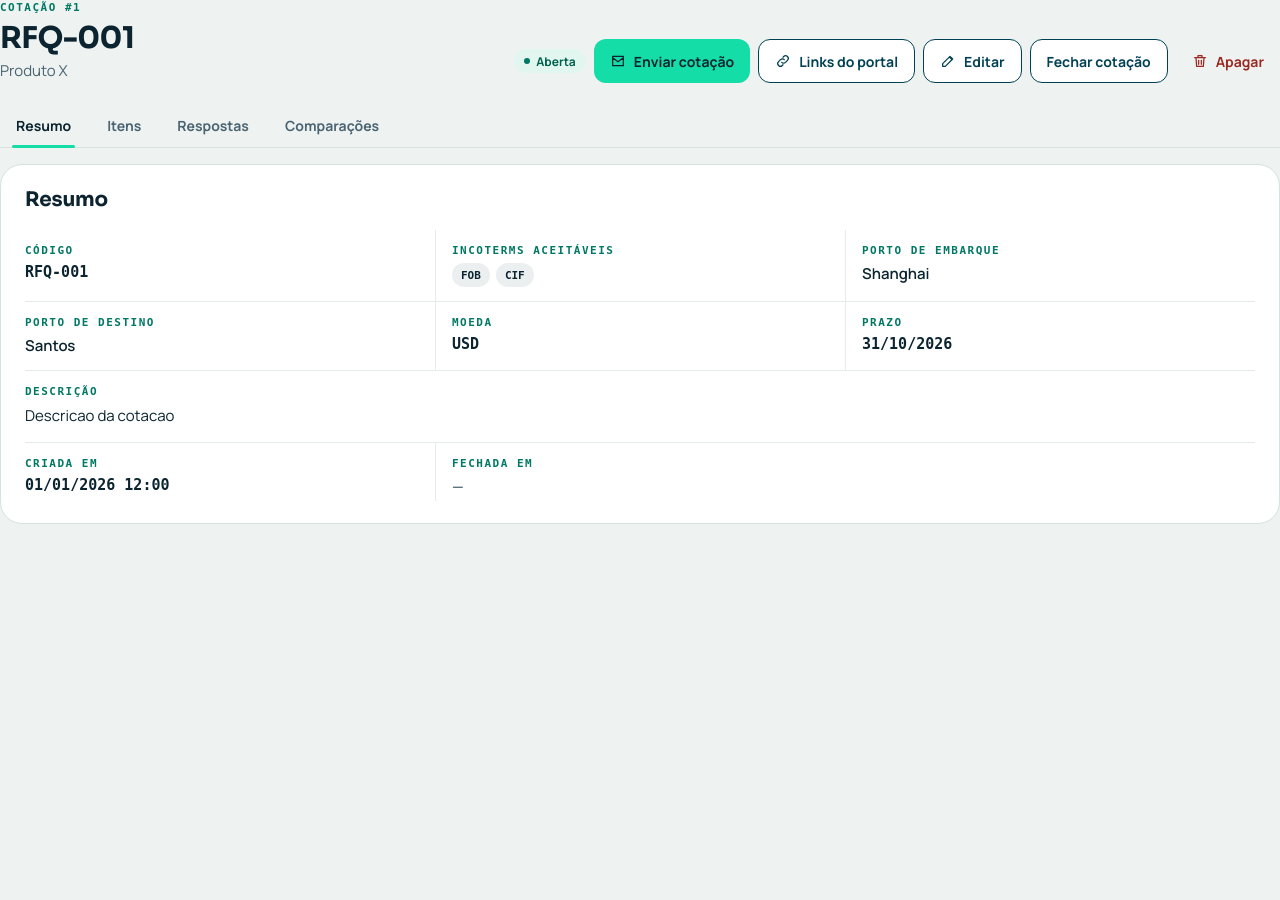
it: CotacaoDetalhe (F6): cabecalho e Resumo › erro de acao (fechar cotacao) em .alert--error com role=alert
Expected: the heading "RFQ-001" is shown, x1=0 y1=20 x2=134 y2=55
Click the button "Fechar cotação" at [1099, 61], box x1=1030 y1=39 x2=1168 y2=83
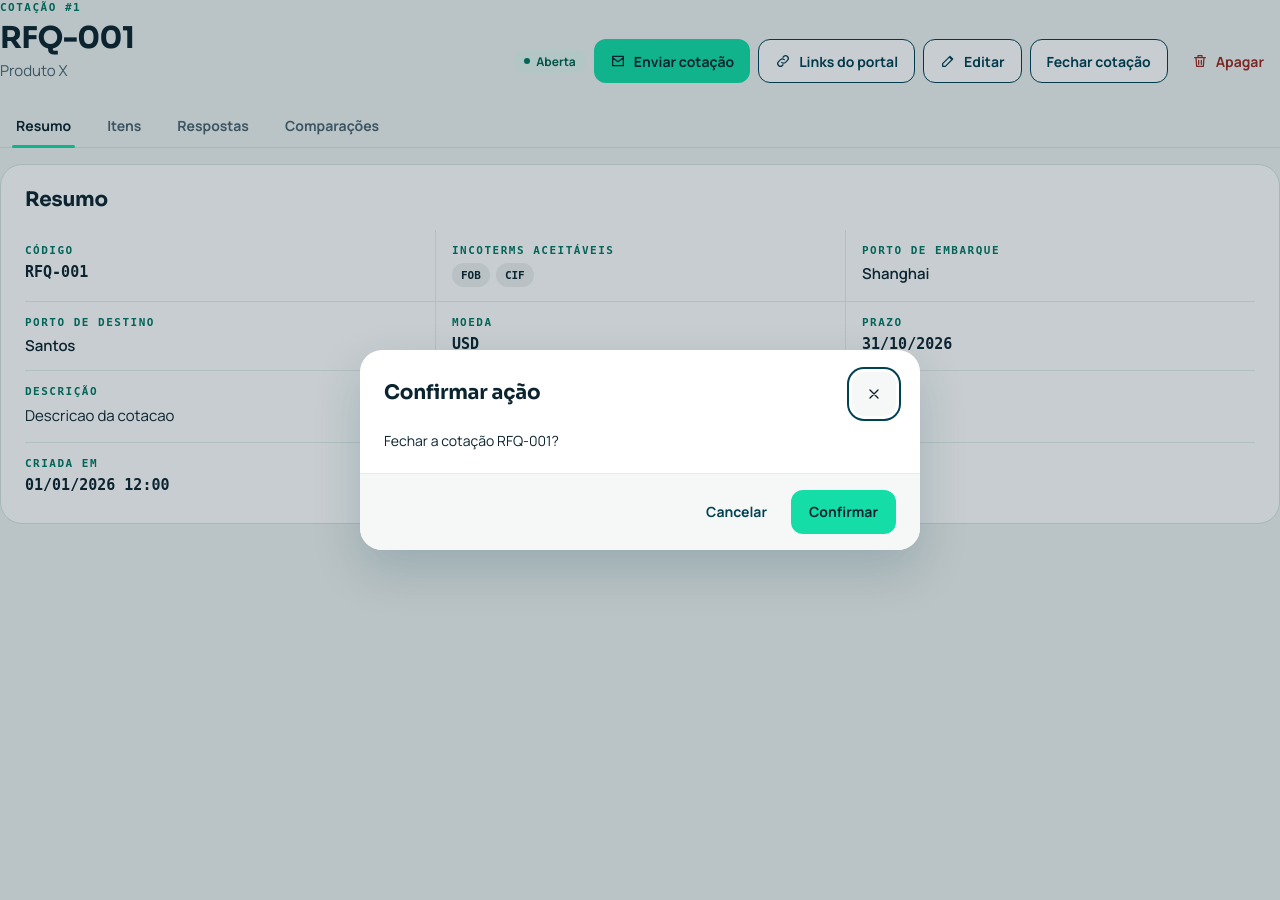
Click the button "Confirmar" at [844, 512], box x1=791 y1=490 x2=896 y2=534
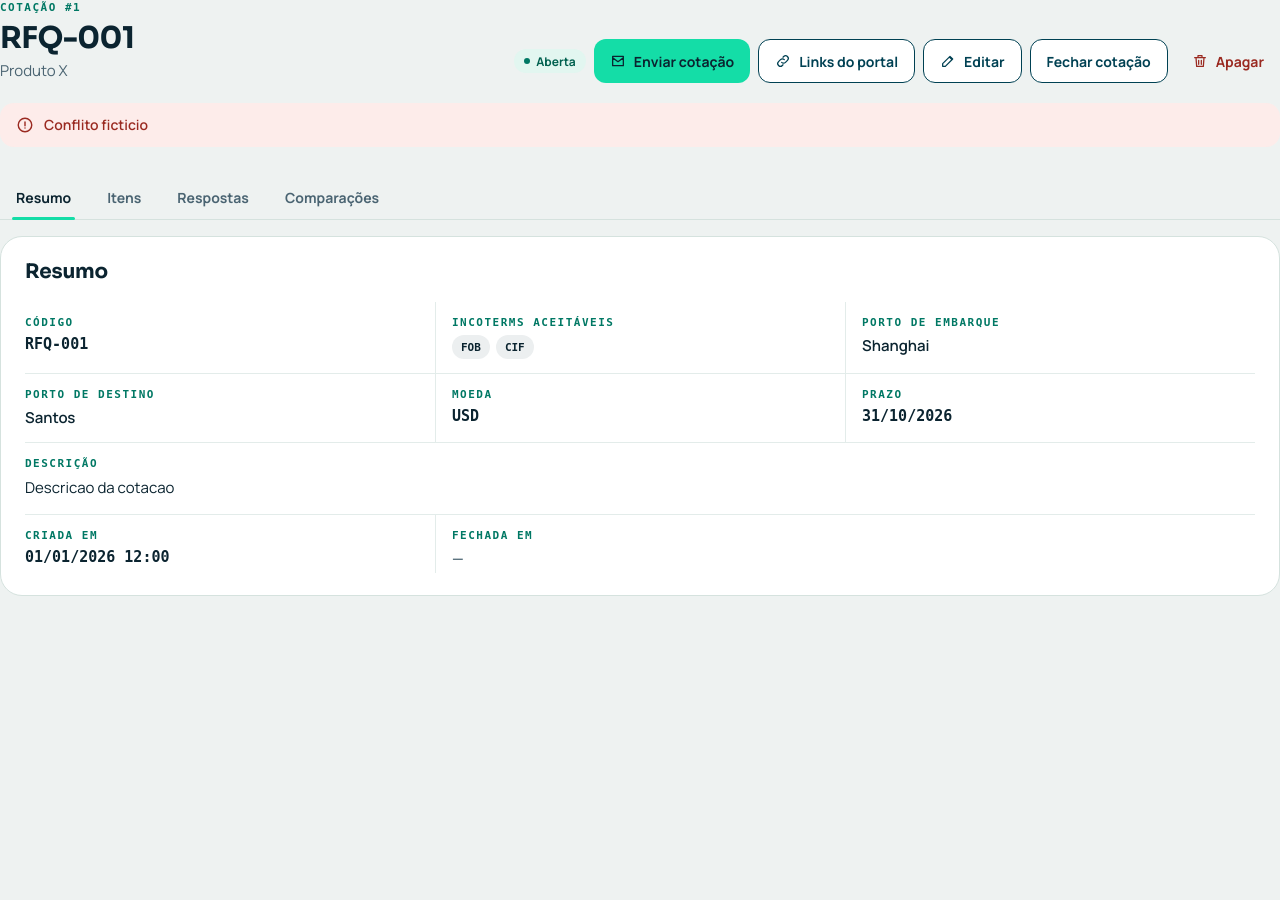
Expected: the message reads "Conflito ficticio", x1=44 y1=115 x2=148 y2=134
